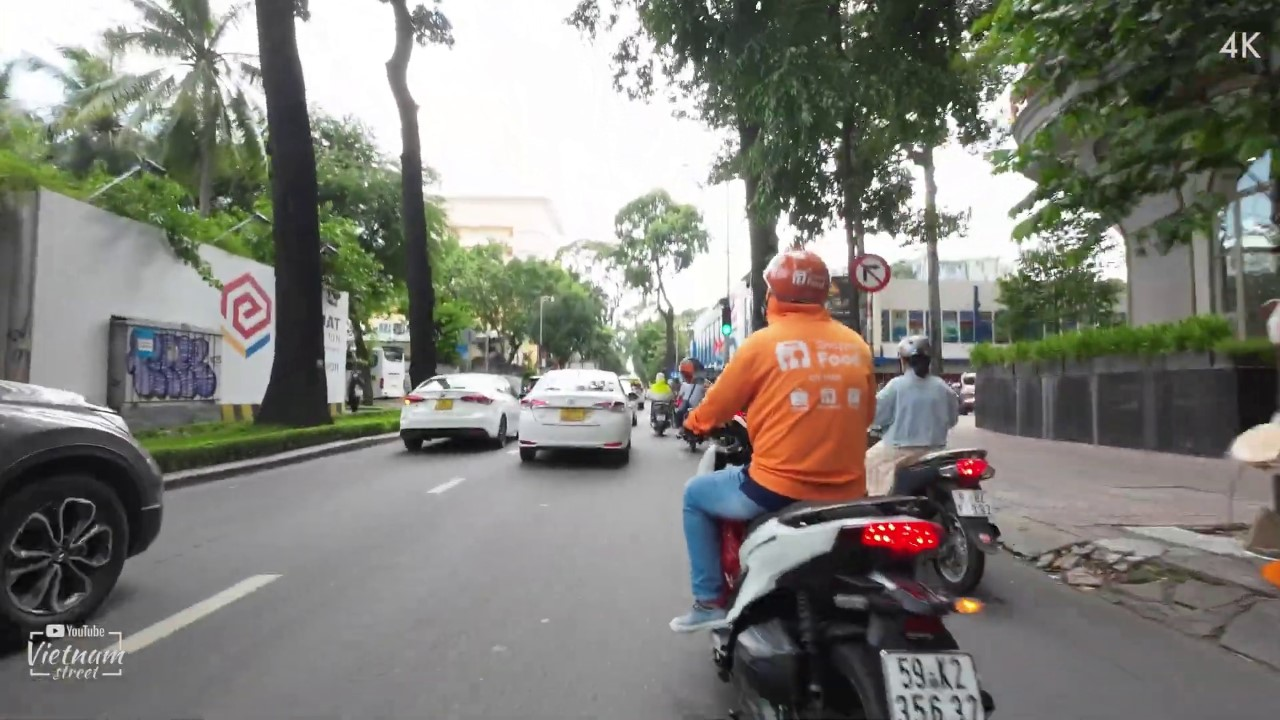cam_re_phai: (849, 252, 893, 294)
